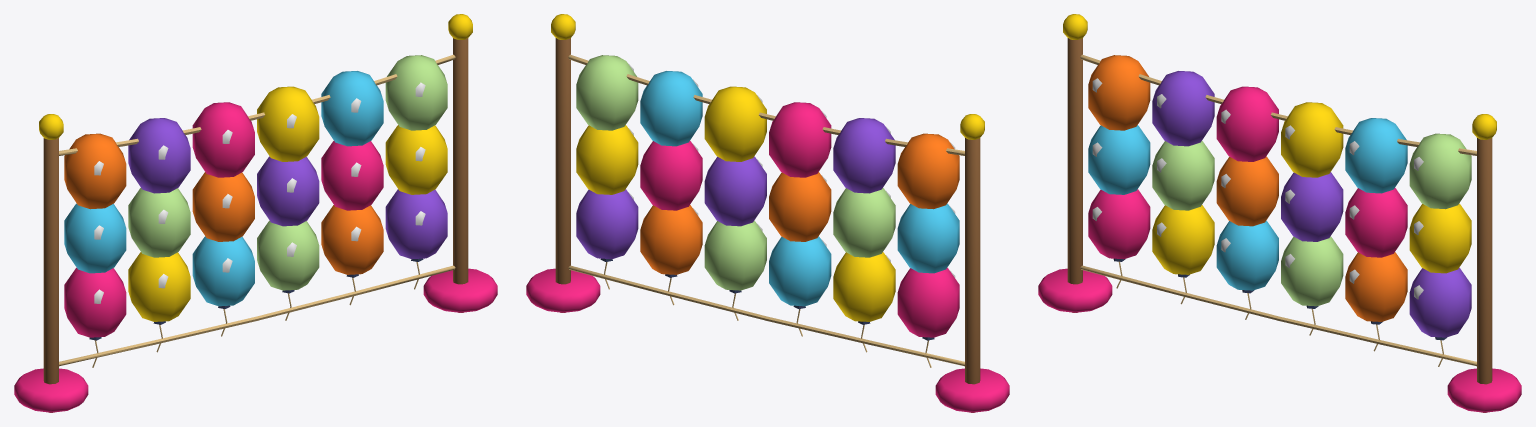
The model's file is H33_BalloonWall.fbx.
3 views of the same model, side by side, from view 1: azimuth 30°, elevation 25°; view 2: azimuth 150°, elevation 25°; view 3: azimuth 330°, elevation 25° (orthographic).
Visible parts, largest first — view 1: Static, Balloon_15, Balloon_16, Balloon_14, Balloon_13, Balloon_12, Balloon_17, Balloon_01, Balloon_05, Balloon_00, Balloon_02, Balloon_04 (+7 smaller); view 2: Static, Balloon_15, Balloon_16, Balloon_14, Balloon_13, Balloon_12, Balloon_17, Balloon_01, Balloon_04, Balloon_00, Balloon_02, Balloon_05 (+7 smaller); view 3: Static, Balloon_14, Balloon_13, Balloon_15, Balloon_16, Balloon_17, Balloon_12, Balloon_00, Balloon_03, Balloon_04, Balloon_05, Balloon_02 (+7 smaller).
Part boxes in pixels (x1=…): Static: x1=14, y1=14, x2=497, y2=412; Balloon_15: x1=257, y1=86, x2=319, y2=161; Balloon_16: x1=321, y1=71, x2=383, y2=146; Balloon_14: x1=192, y1=102, x2=254, y2=177; Balloon_13: x1=128, y1=118, x2=190, y2=193; Balloon_12: x1=64, y1=133, x2=126, y2=209; Balloon_17: x1=385, y1=55, x2=447, y2=130; Balloon_01: x1=128, y1=252, x2=190, y2=352; Balloon_05: x1=385, y1=189, x2=447, y2=289; Balloon_00: x1=64, y1=267, x2=126, y2=367; Balloon_02: x1=192, y1=236, x2=254, y2=336; Balloon_04: x1=321, y1=205, x2=383, y2=305; Static: x1=526, y1=14, x2=1009, y2=412; Balloon_15: x1=704, y1=86, x2=766, y2=161; Balloon_16: x1=640, y1=71, x2=702, y2=146; Balloon_14: x1=769, y1=102, x2=831, y2=177; Balloon_13: x1=833, y1=118, x2=895, y2=193; Balloon_12: x1=897, y1=133, x2=959, y2=209; Balloon_17: x1=576, y1=55, x2=638, y2=130; Balloon_01: x1=833, y1=252, x2=895, y2=352; Balloon_04: x1=640, y1=205, x2=702, y2=305; Balloon_00: x1=897, y1=267, x2=959, y2=367; Balloon_02: x1=769, y1=236, x2=831, y2=336; Balloon_05: x1=576, y1=189, x2=638, y2=289; Static: x1=1038, y1=14, x2=1521, y2=412; Balloon_14: x1=1216, y1=86, x2=1278, y2=161; Balloon_13: x1=1152, y1=71, x2=1214, y2=146; Balloon_15: x1=1281, y1=102, x2=1343, y2=177; Balloon_16: x1=1345, y1=118, x2=1407, y2=193; Balloon_17: x1=1409, y1=133, x2=1471, y2=209; Balloon_12: x1=1088, y1=55, x2=1150, y2=130; Balloon_00: x1=1088, y1=189, x2=1150, y2=288; Balloon_03: x1=1281, y1=236, x2=1343, y2=335; Balloon_04: x1=1345, y1=252, x2=1407, y2=351; Balloon_05: x1=1409, y1=267, x2=1471, y2=366; Balloon_02: x1=1216, y1=220, x2=1278, y2=319.
Size of the model in its own units: 8.1 by 4.87 by 1.1.
